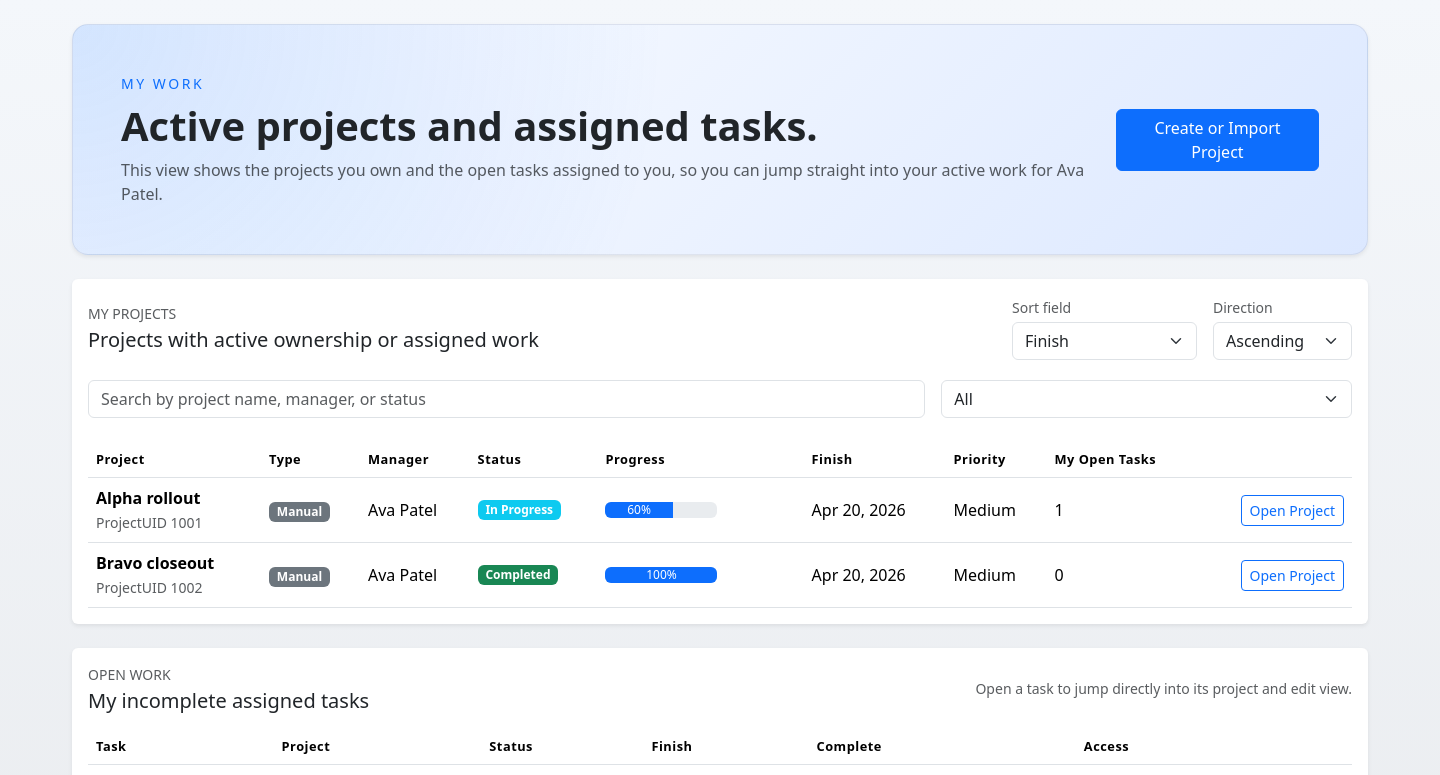
MyDashboardPage › filters visible projects by search term and status while keeping progress cues visible
This screenshot has width=1440, height=775.
Expected: the text "Alpha rollout" is shown, 96,487 -> 200,509
Expected: the text "Bravo closeout" is shown, 96,552 -> 214,574
Type "Alpha" into the field with placeholder "Search by project name, manager, or status" at {"x": 507, "y": 399}, box 88,380 -> 925,418
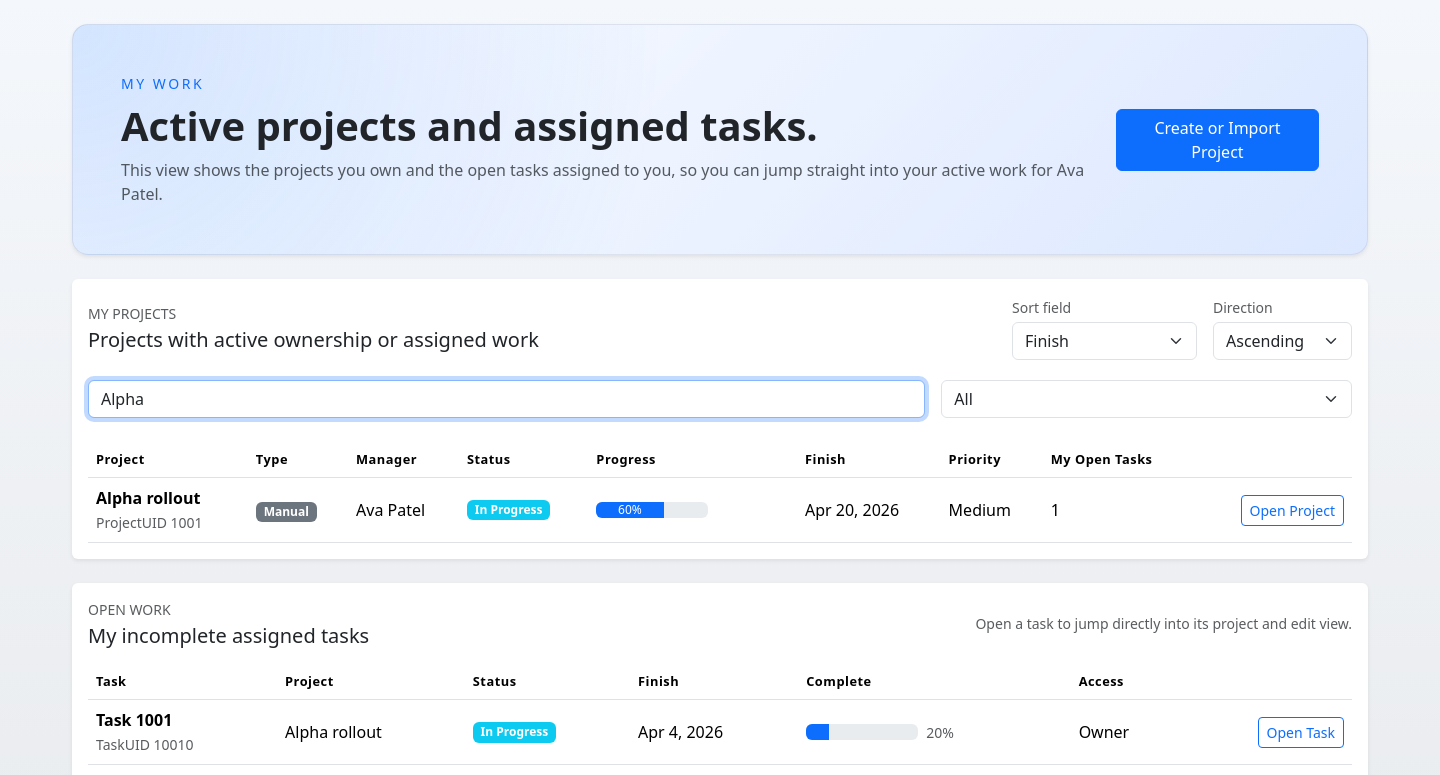
Expected: the text "Alpha rollout" is shown, 96,487 -> 200,509
Expected: the text "Bravo closeout" is gone
Clear the field with placeholder "Search by project name, manager, or status" at {"x": 507, "y": 399}, box 88,380 -> 925,418
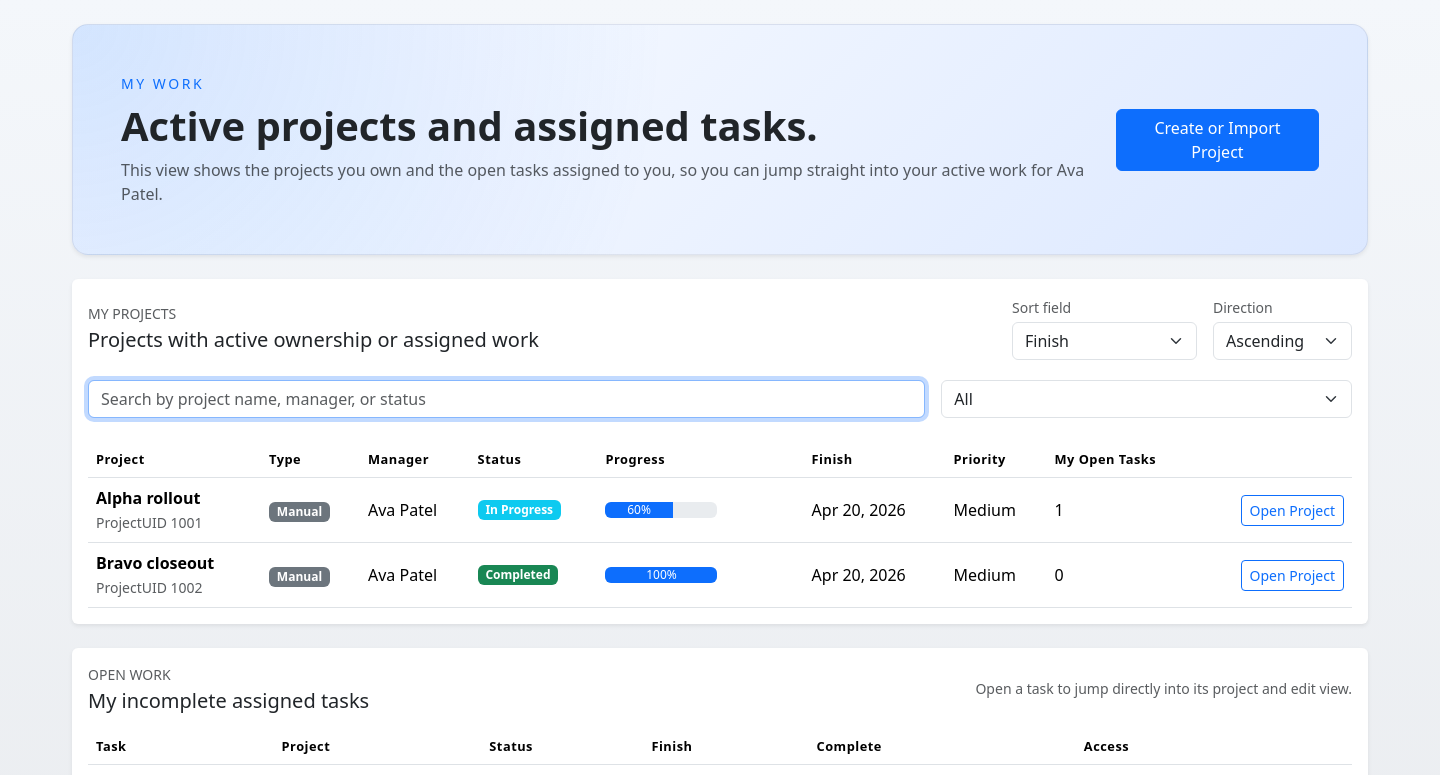
Select "Completed" in the 3rd dropdown at {"x": 1147, "y": 399}, box 941,380 -> 1352,418
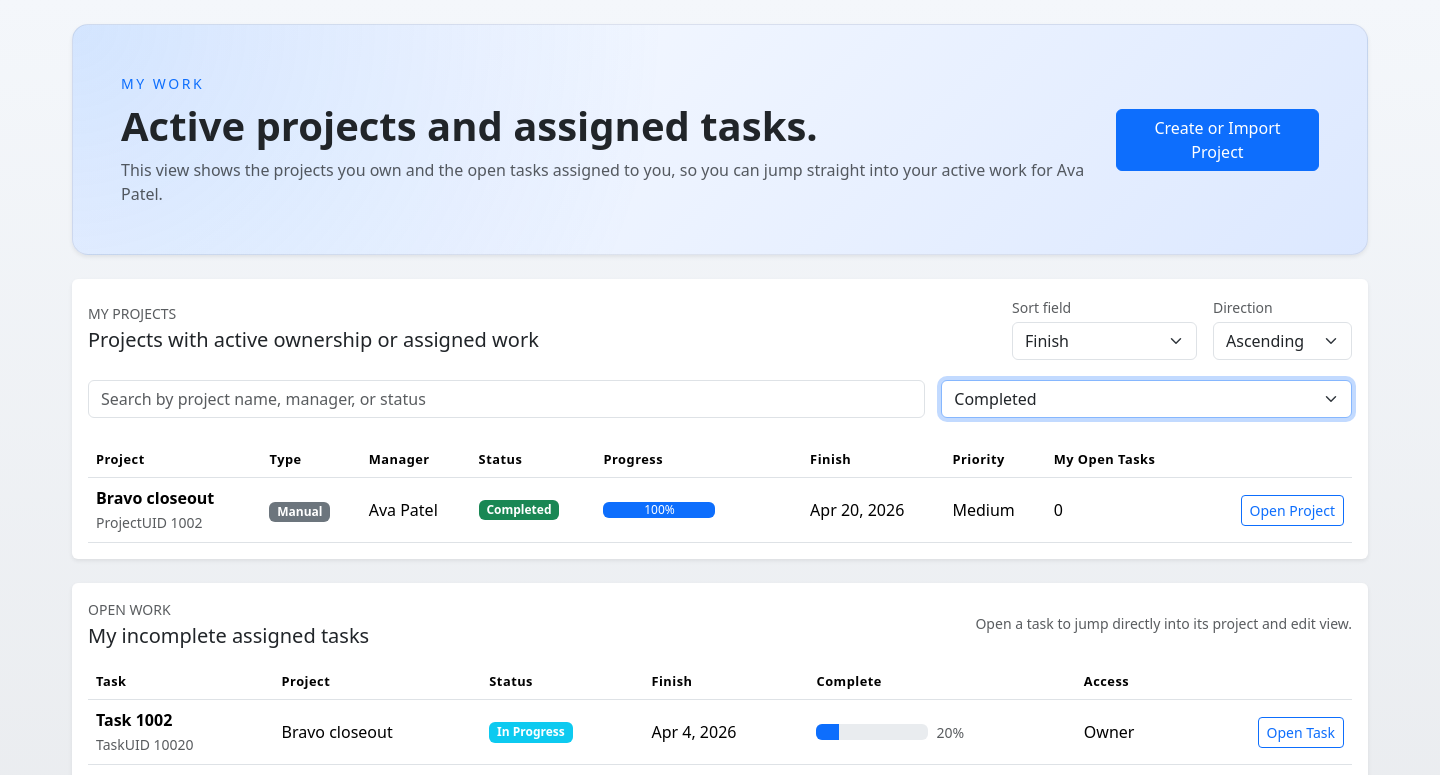
Expected: the text "Bravo closeout" is shown, 96,487 -> 214,509
Expected: the text "Alpha rollout" is gone
